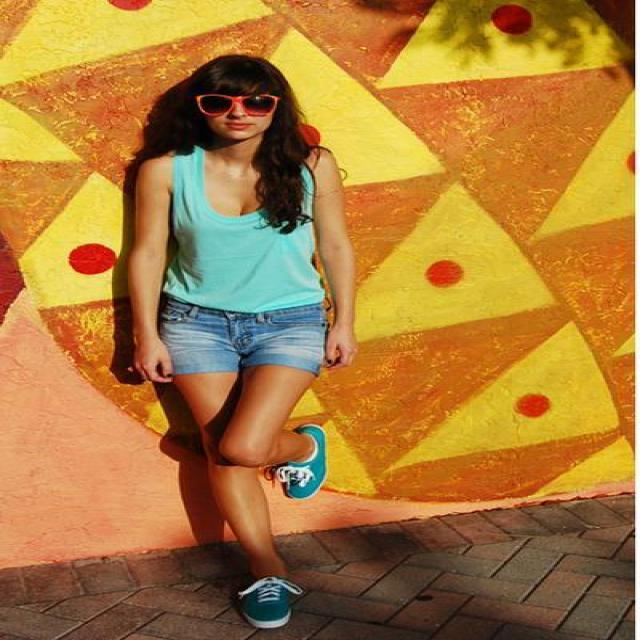shirt: (158, 146, 330, 322)
shoe: (221, 426, 325, 627)
shorts: (157, 294, 325, 372)
sunglass: (200, 83, 242, 112)
